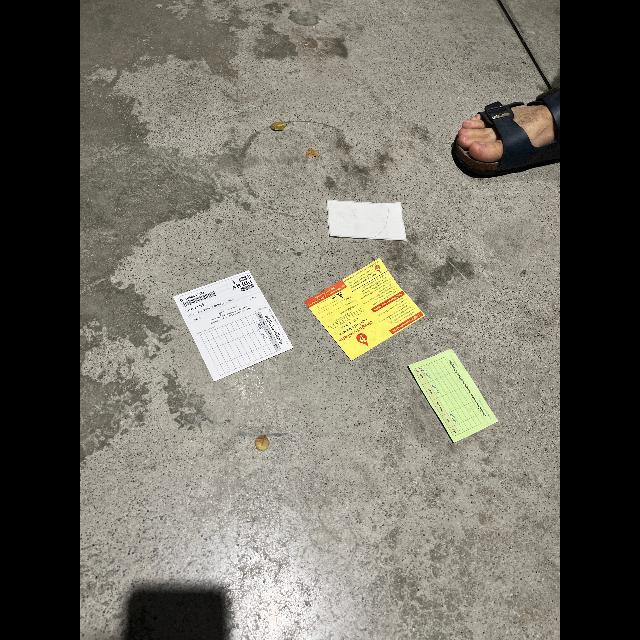scrap_paper: (172, 259, 298, 387), (295, 258, 429, 360), (390, 339, 502, 458), (307, 188, 421, 256)
